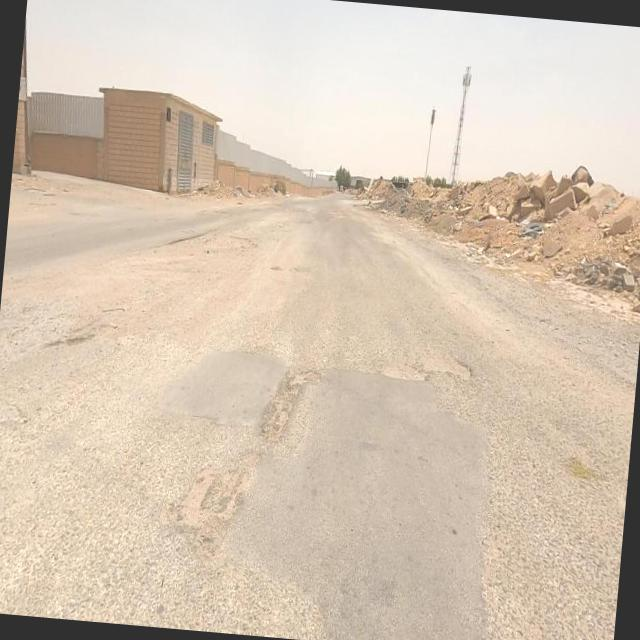debris: (487, 168, 579, 299), (580, 163, 640, 266)
